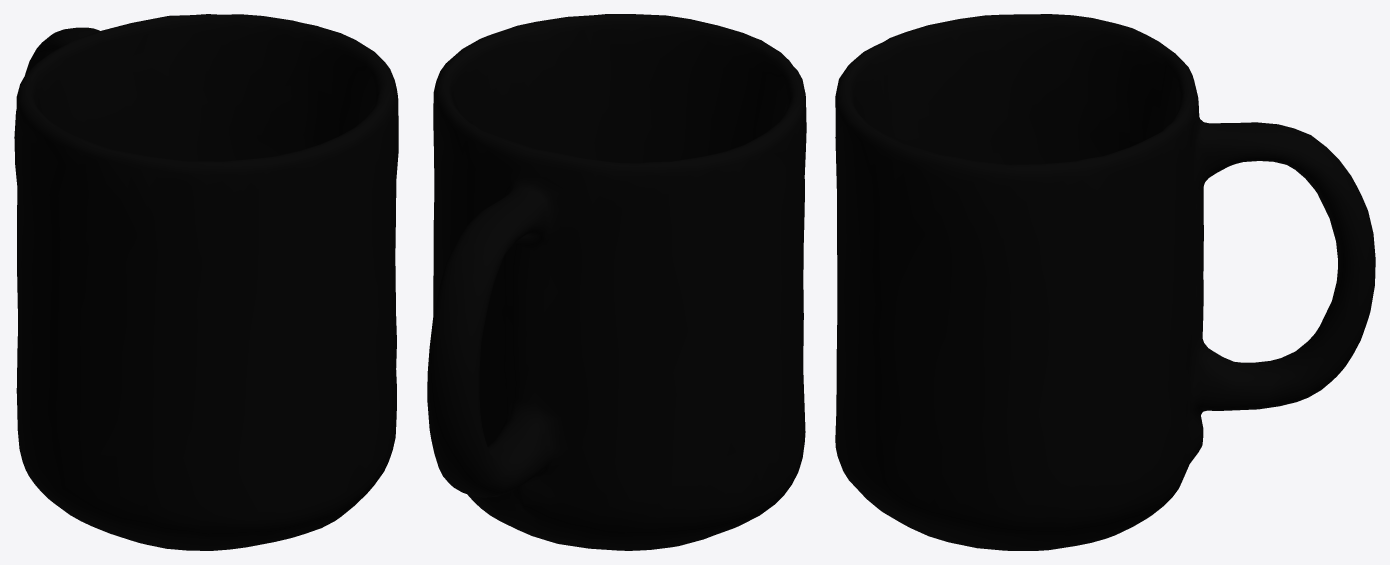
The model's file is Cup.fbx.
3 views of the same model, side by side, from view 1: azimuth 30°, elevation 25°; view 2: azimuth 150°, elevation 25°; view 3: azimuth 270°, elevation 25° (orthographic).
Parts seen in each view (by area): view 1: Cup; view 2: Cup; view 3: Cup.
Part boxes in pixels (x1,y1,x2,y2): Cup: [14, 14, 398, 550]; Cup: [427, 14, 806, 550]; Cup: [835, 14, 1375, 550].
Size of the model in its own units: 54.64 by 64.48 by 76.53.
1 material, 1 textured.
